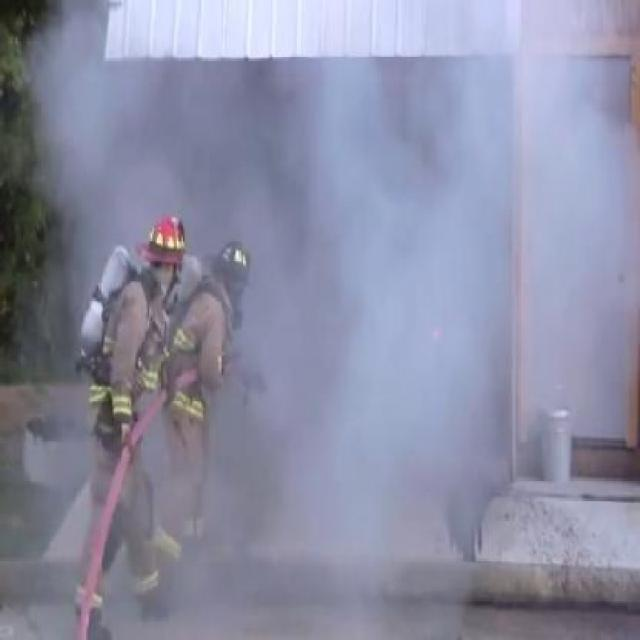smoke: (248, 68, 520, 596), (36, 66, 250, 208)
